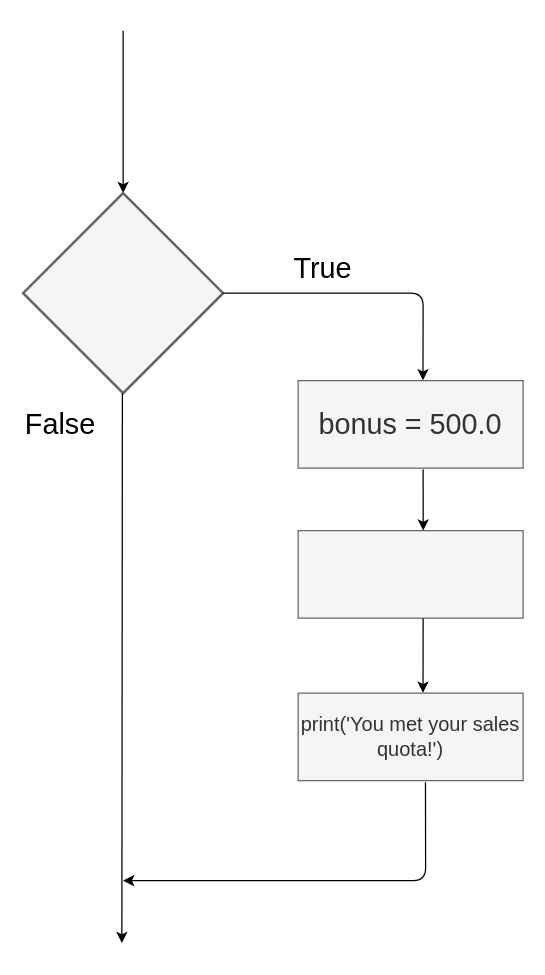
Some shapes in this 545 by 975 pixel diagram are drawn without their labels. The shapes that lost their labels are listed below. From the top down, each one's centre as x and y in pixels, then its label:
At point 122,292: "sales >50000".
At point 410,573: "commission_rate = 0.12".
